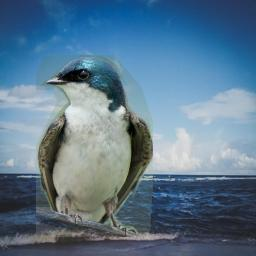Swallow: (36, 55, 153, 237)
